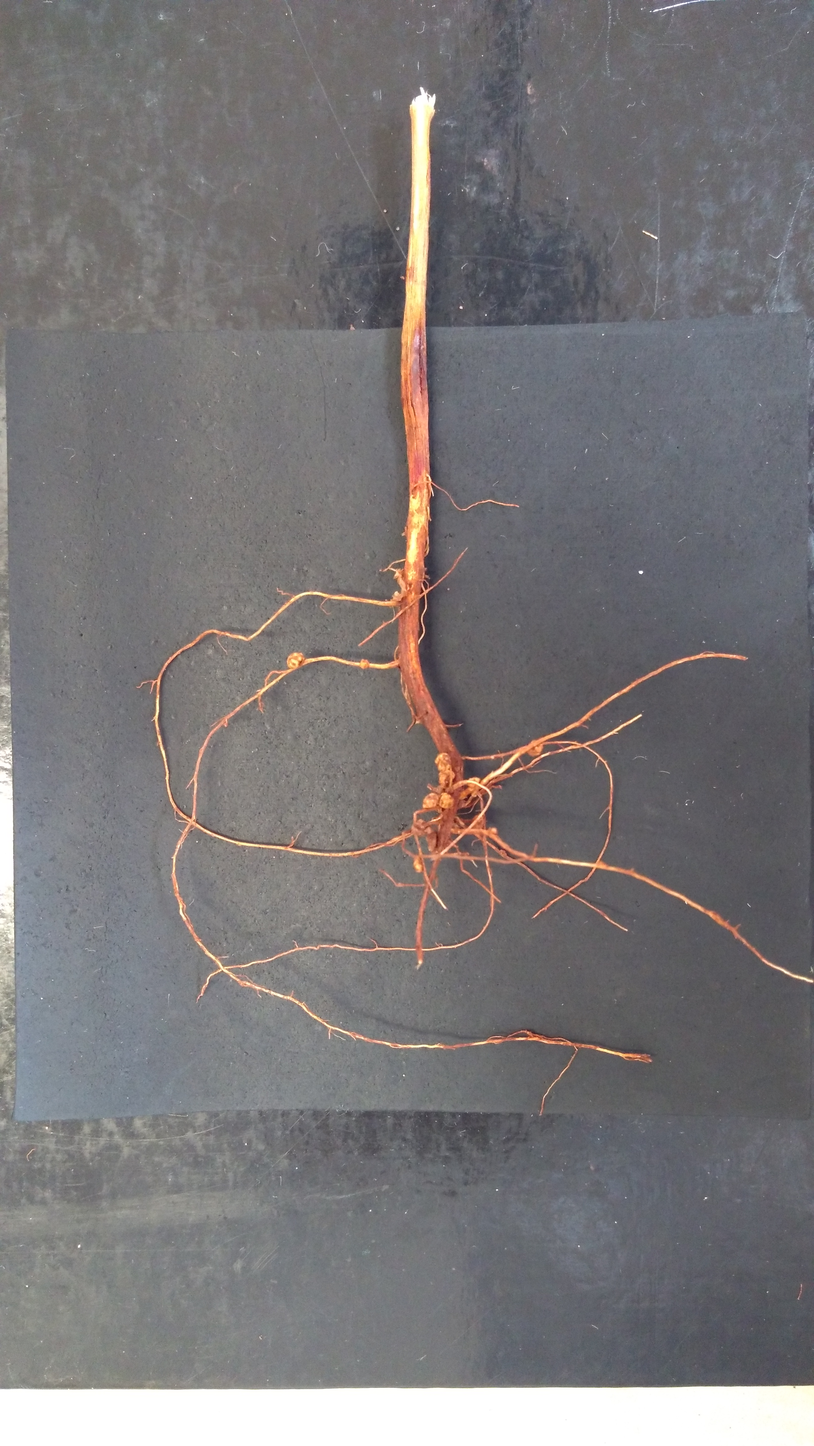nodule: (409, 818, 431, 838), (433, 752, 452, 772), (286, 652, 307, 670), (424, 825, 437, 853), (527, 738, 544, 758), (421, 791, 439, 809), (438, 792, 455, 810), (438, 769, 456, 783), (464, 775, 481, 787), (412, 856, 423, 874), (359, 658, 370, 669), (488, 826, 500, 836)
